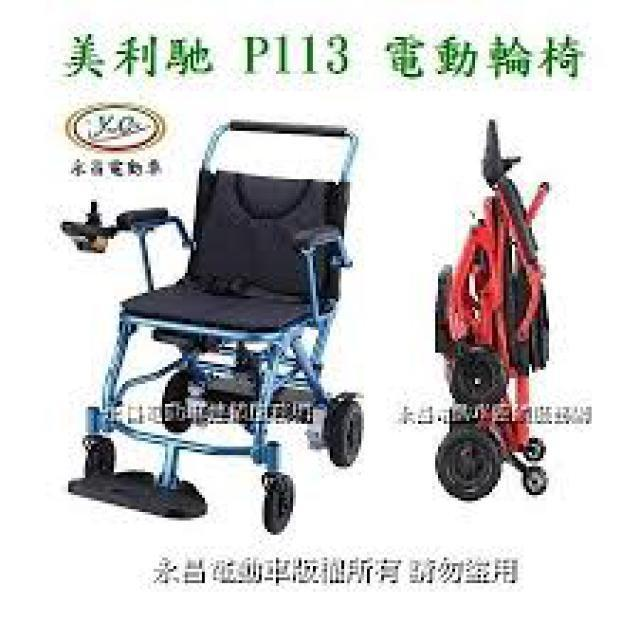wheelchairs: (65, 118, 360, 533)
